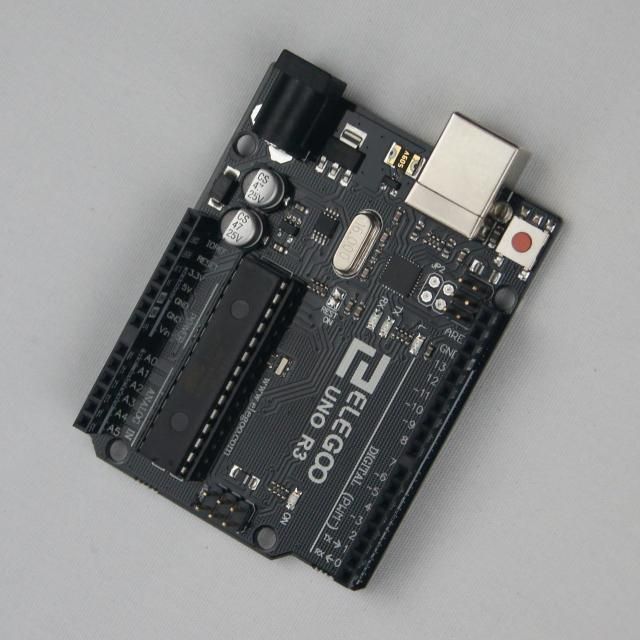Arduino Uno -Black-: (75, 51, 560, 590)
